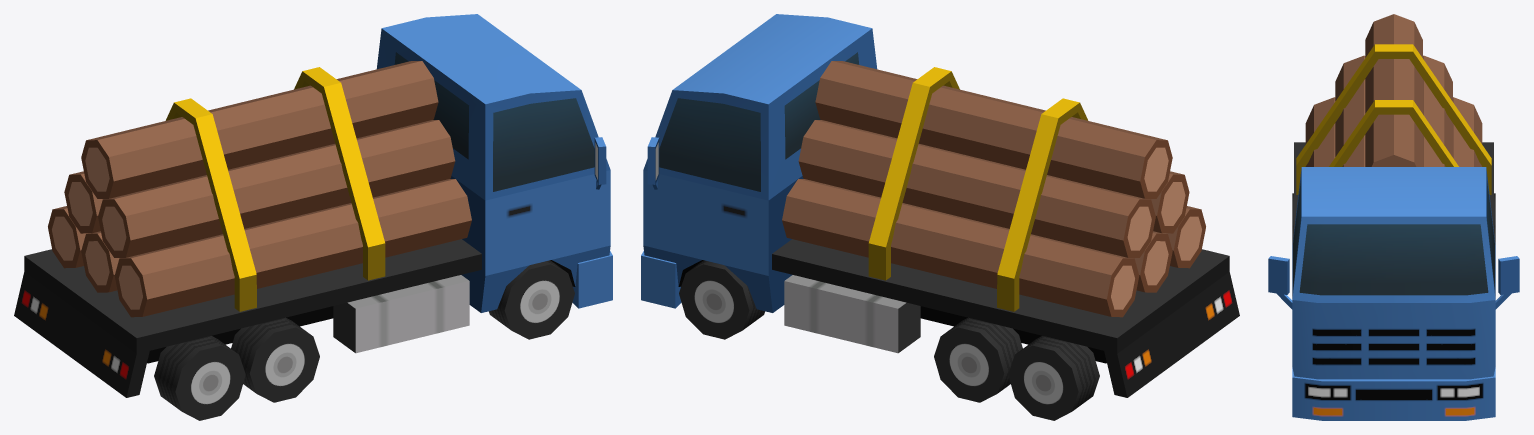
The model's file is Truck_028.glb.
3 views of the same model, side by side, from view 1: azimuth 30°, elevation 25°; view 2: azimuth 150°, elevation 25°; view 3: azimuth 270°, elevation 25° (orthographic). The views are drawn at different scales.
Parts seen in each view (by area): view 1: Truck_028, wheel_5_Truck_028_Wheel_3R, wheel_3_Truck_028_Wheel_2R, wheel_1_Truck_028_Wheel_1R; view 2: Truck_028, wheel_4_Truck_028_Wheel_3L, wheel_2_Truck_028_Wheel_2L, wheel_0_Truck_028_Wheel_1L; view 3: Truck_028.
Boxes of the visible parts, x1,y1,x2,y2 form: Truck_028: (14,14,612,397); wheel_5_Truck_028_Wheel_3R: (154,336,245,420); wheel_3_Truck_028_Wheel_2R: (231,317,319,402); wheel_1_Truck_028_Wheel_1R: (489,260,574,339); Truck_028: (641,14,1239,397); wheel_4_Truck_028_Wheel_3L: (1008,336,1099,420); wheel_2_Truck_028_Wheel_2L: (934,317,1022,402); wheel_0_Truck_028_Wheel_1L: (679,260,764,339); Truck_028: (1268,14,1519,420).
Size of the model in its own units: 4.89 by 2.44 by 2.42.
1 material, 1 textured.
